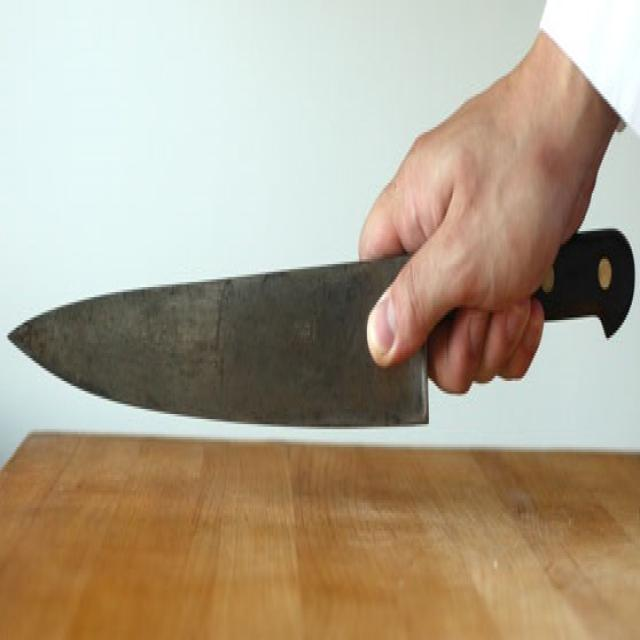knife: (3, 219, 640, 439)
